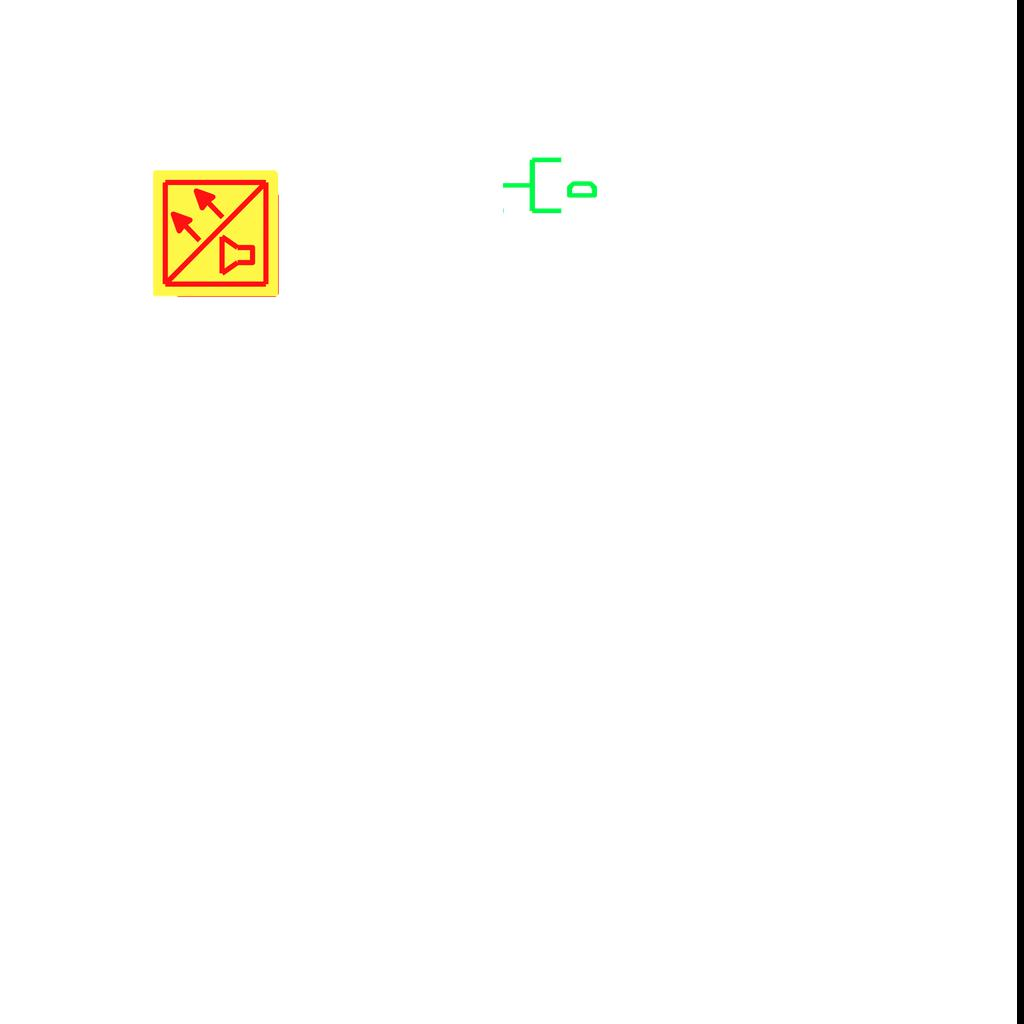Datenanschluss_einfach: (500, 149, 600, 218)
OKW_Multisensormelder_(Kombination_optischer_Rauch-Kahlenmonoxid_Waerme-Melder): (150, 167, 282, 299)
